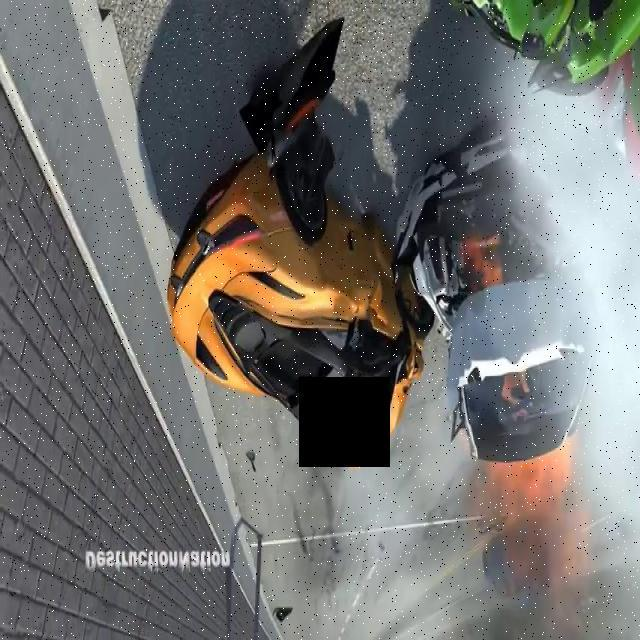severe: (158, 114, 614, 482)
